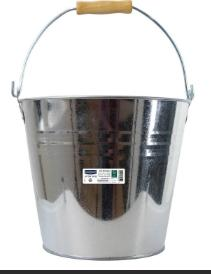SEAU: (0, 0, 205, 274)
